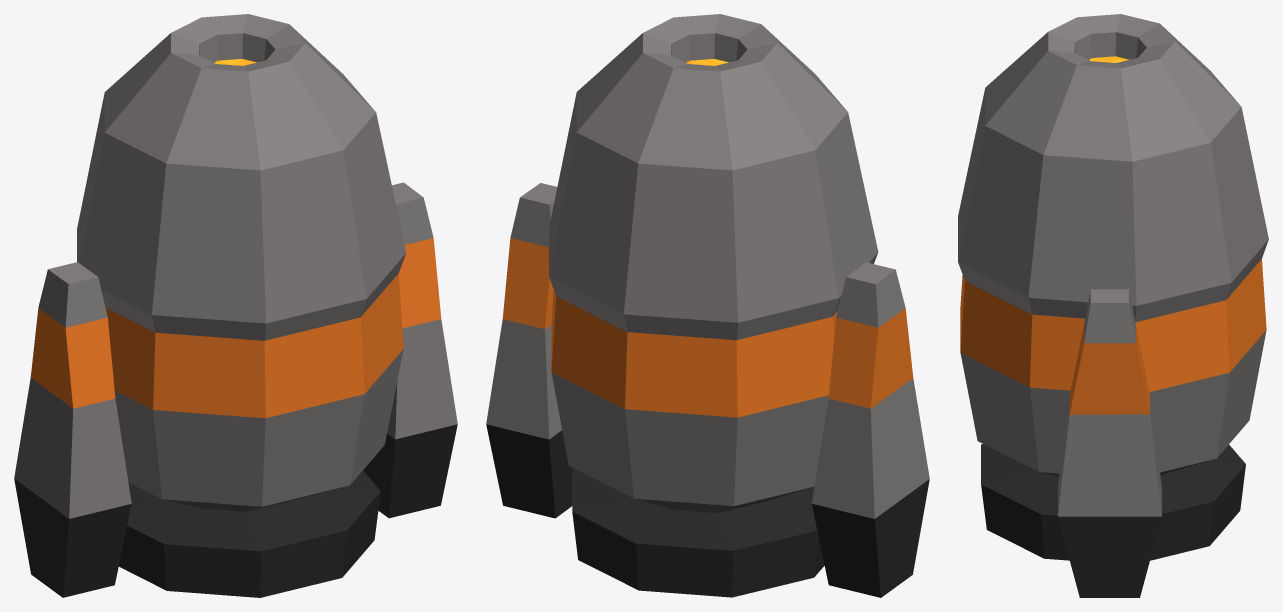
File: scifi_scifi-smelter.fbx
The picture shows the model from 3 angles, left to right: view 1: azimuth 30°, elevation 25°; view 2: azimuth 150°, elevation 25°; view 3: azimuth 270°, elevation 25°; orthographic projection. The views are drawn at different scales.
Parts seen in each view (by area): view 1: scifi_scifi_smelter; view 2: scifi_scifi_smelter; view 3: scifi_scifi_smelter.
Boxes of the visible parts, x1,y1,x2,y2 form: scifi_scifi_smelter: [14, 14, 457, 597]; scifi_scifi_smelter: [486, 14, 929, 597]; scifi_scifi_smelter: [958, 14, 1268, 597].
Size of the model in its own units: 163 by 200 by 120.
